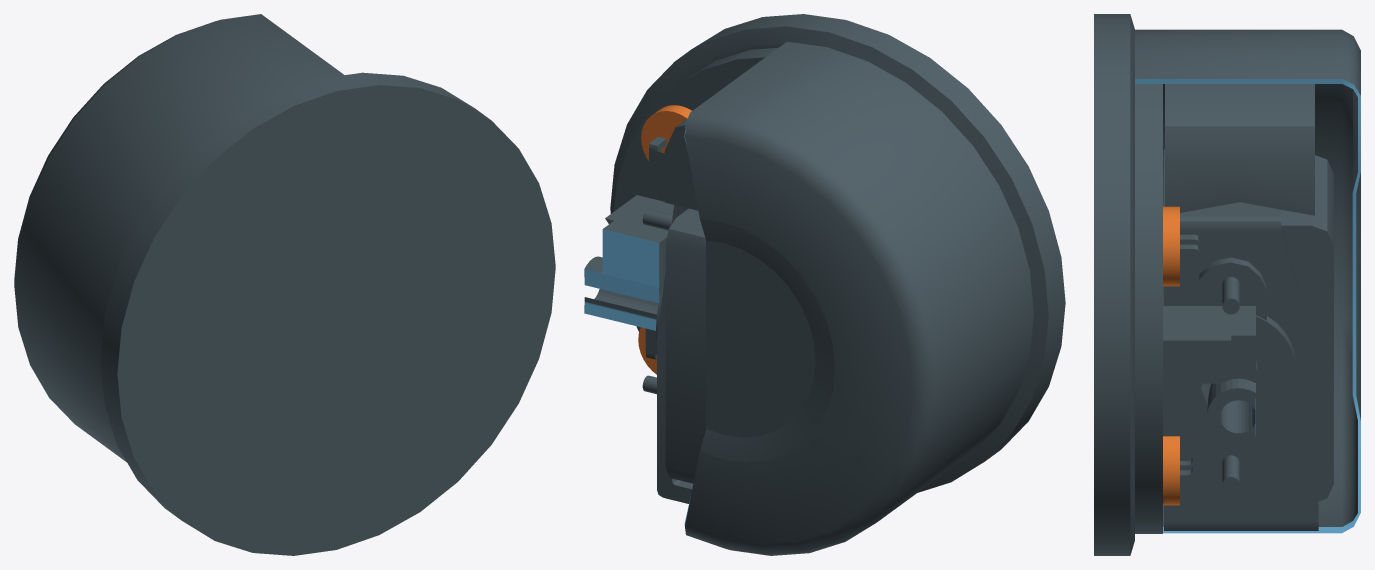
Rendered from ЗУР-РО-ДУС_Р.fbx.
3 renders of one model, left to right at view 1: azimuth 30°, elevation 25°; view 2: azimuth 150°, elevation 25°; view 3: azimuth 270°, elevation 25°, orthographic. The views are drawn at different scales.
Parts seen in each view (by area): view 1: ЗУР-РО-ДУС_Р; view 2: ЗУР-РО-ДУС_Р; view 3: ЗУР-РО-ДУС_Р.
Part boxes in pixels (bbox=[...]): ЗУР-РО-ДУС_Р: bbox=[14, 14, 555, 555]; ЗУР-РО-ДУС_Р: bbox=[584, 14, 1065, 555]; ЗУР-РО-ДУС_Р: bbox=[1094, 14, 1360, 555].
Size of the model in its own units: 22.69 by 22.69 by 11.15.
